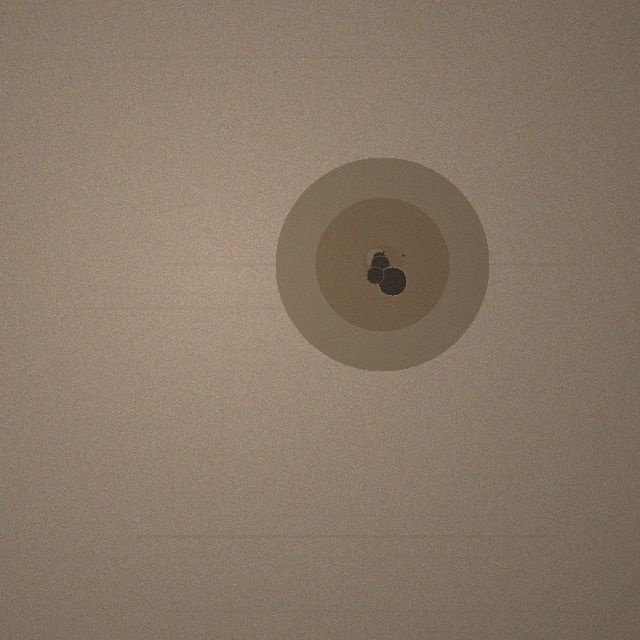shrinkage: (275, 157, 489, 371)
